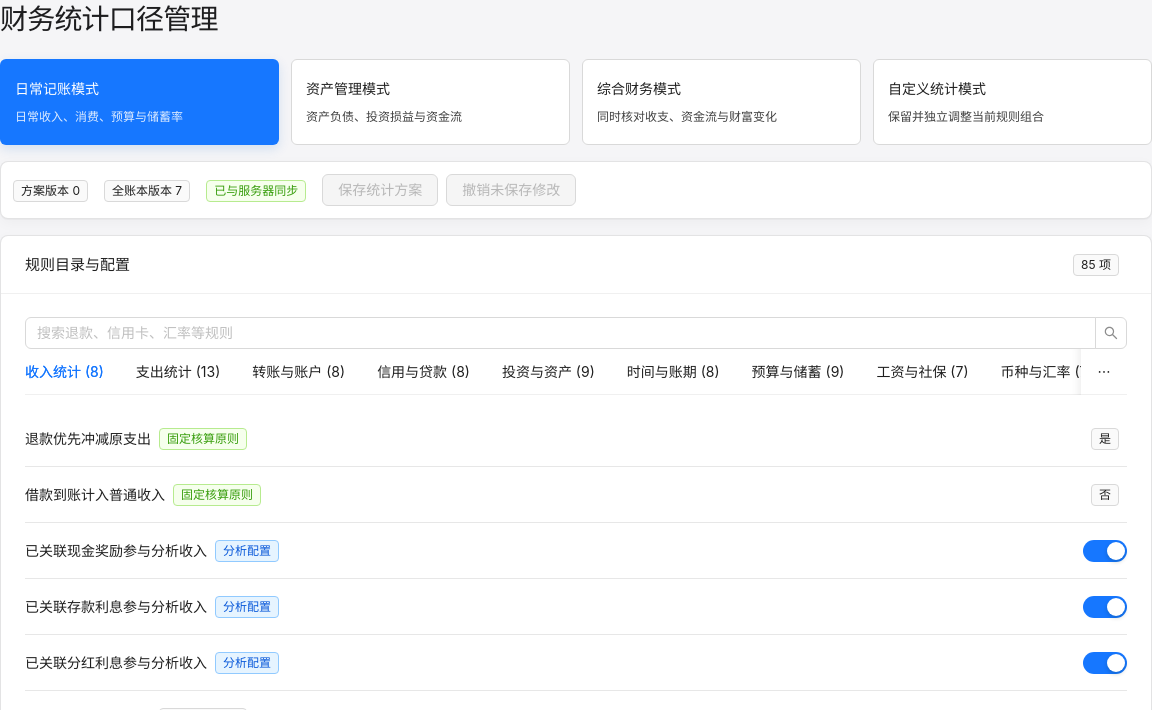
retains edits after conflict and allows a local discard
Click the switch named "已关联现金奖励参与分析收入": (1105, 551) [1083,540,1127,562]
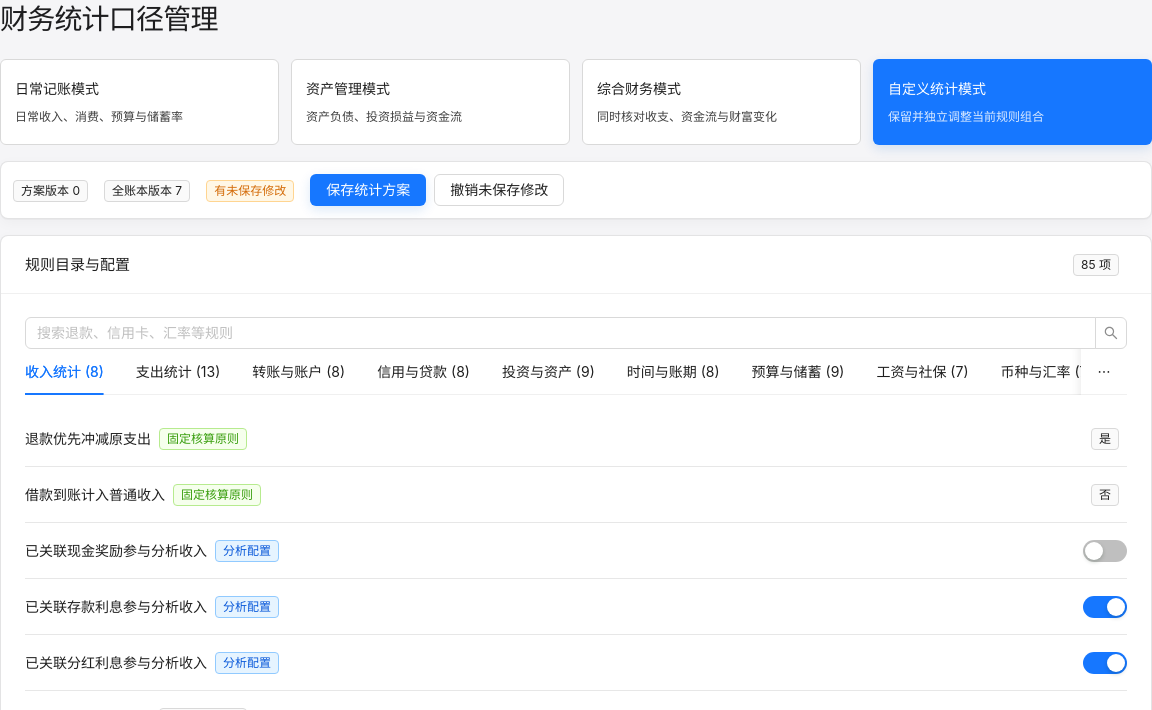
Click the button "保存统计方案": (368, 190) [310,174,426,206]
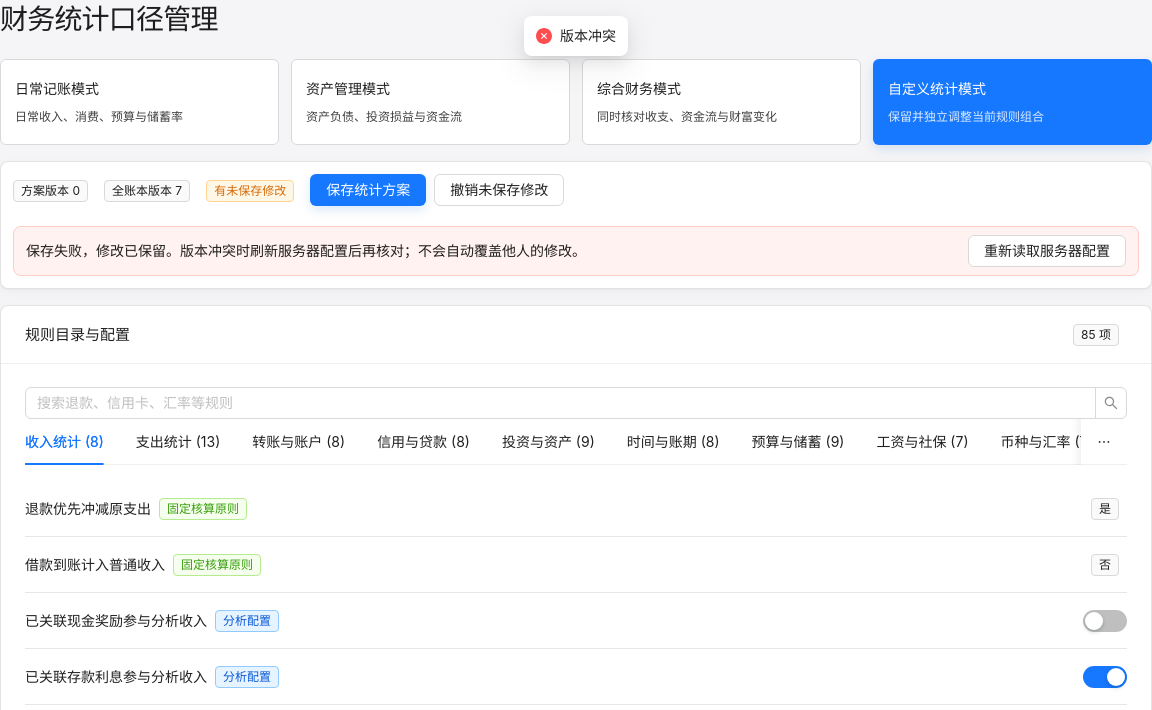
Now the switch named "已关联现金奖励参与分析收入" is not checked, box [1083,610,1127,632]
Now the text "保存失败，修改已保留。版本冲突时刷新服务器配置后再核对；不会自动覆盖他人的修改。" is shown, box [26,242,586,259]
Click the button "撤销未保存修改": (499, 190) [434,174,564,206]
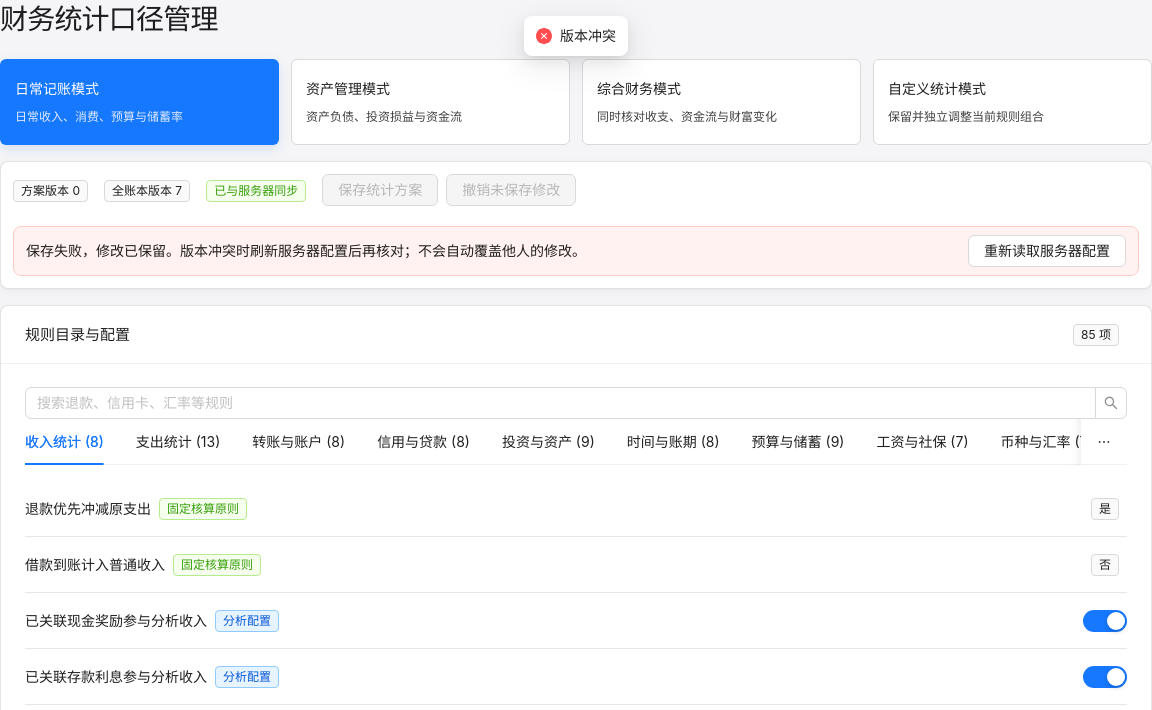
Now the switch named "已关联现金奖励参与分析收入" is checked, box [1083,610,1127,632]
